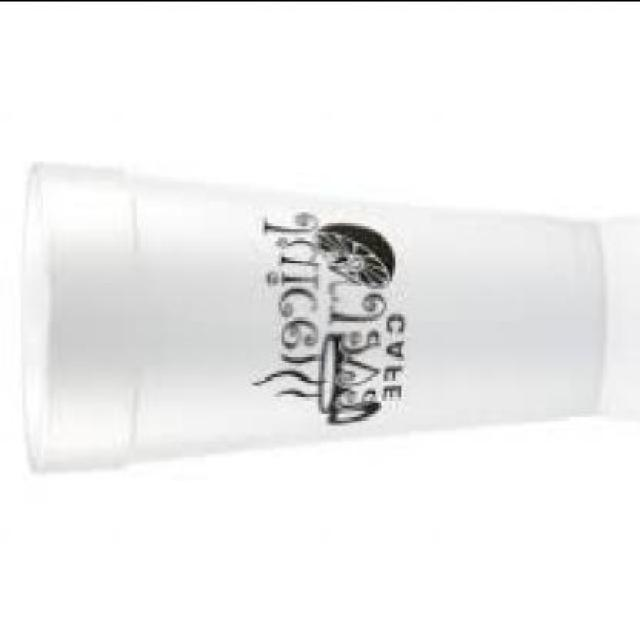PAPER: (17, 156, 603, 464)
